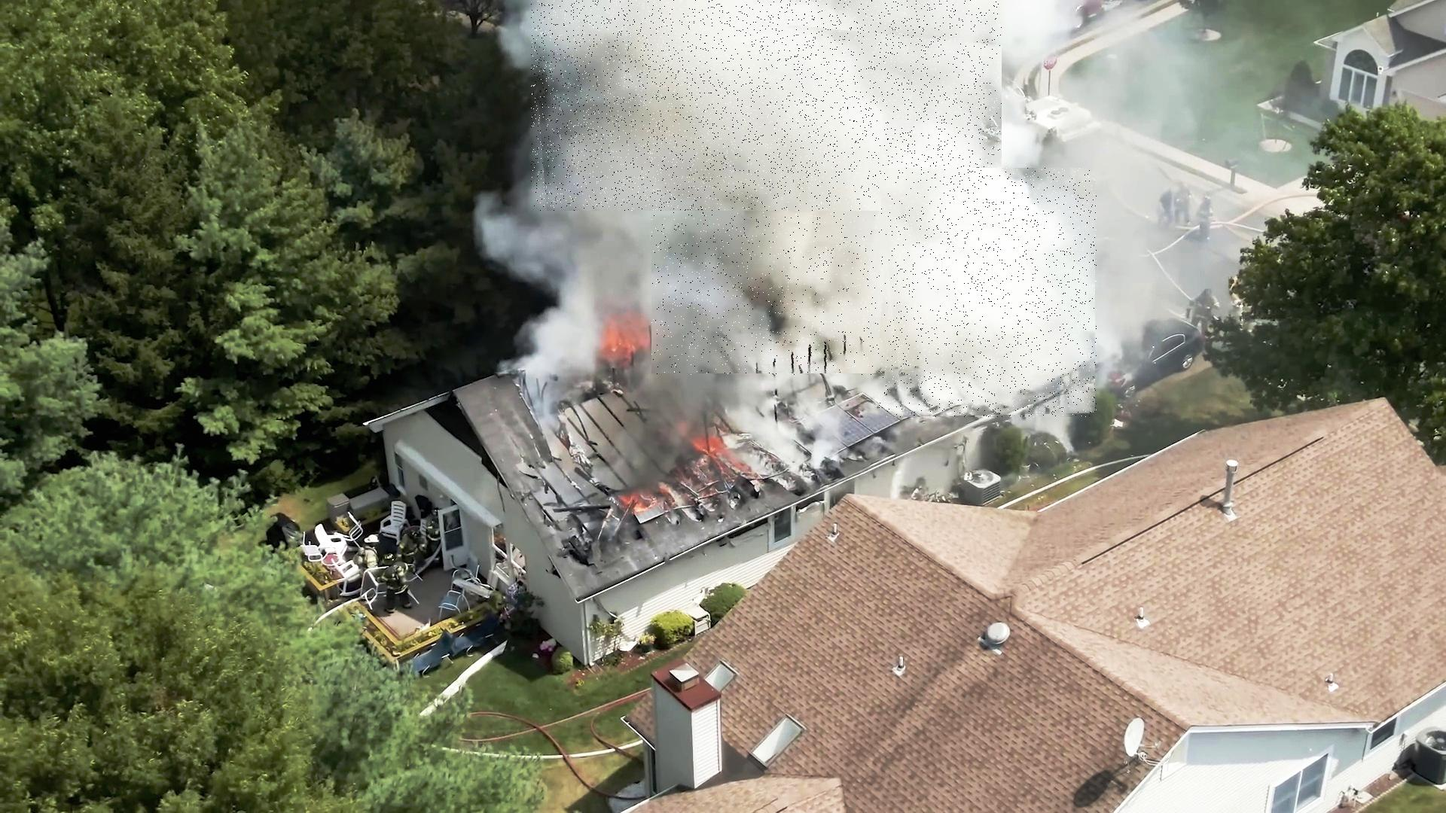smoke: (531, 0, 1002, 211), (880, 168, 1097, 417), (652, 213, 891, 375)
